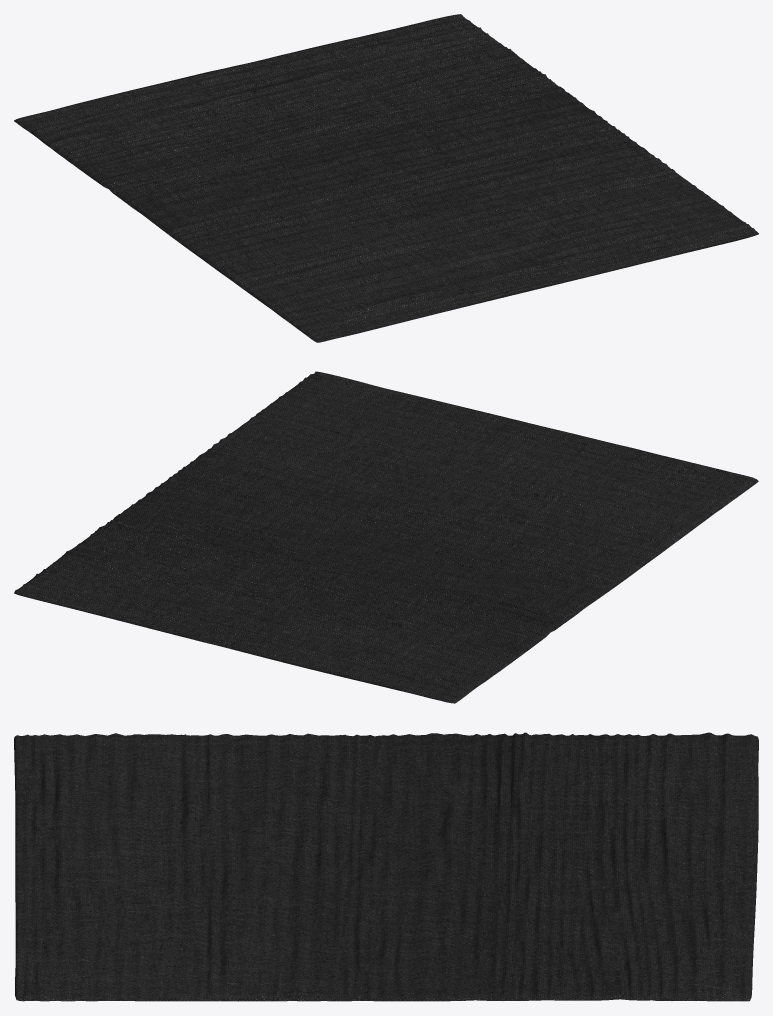
The model's file is Tapete.obj.
3 views of the same model, one above another, from view 1: azimuth 30°, elevation 25°; view 2: azimuth 150°, elevation 25°; view 3: azimuth 270°, elevation 25° (orthographic). The views are drawn at different scales.
Parts seen in each view (by area): view 1: roog2; view 2: roog2; view 3: roog2.
Boxes of the visible parts, bbox=[...] form: roog2: bbox=[14, 14, 758, 342]; roog2: bbox=[14, 371, 758, 703]; roog2: bbox=[14, 732, 758, 1001].
Size of the model in its own units: 10.79 by 0.1899 by 12.81.
Materials: 1 (1 with a texture image).
